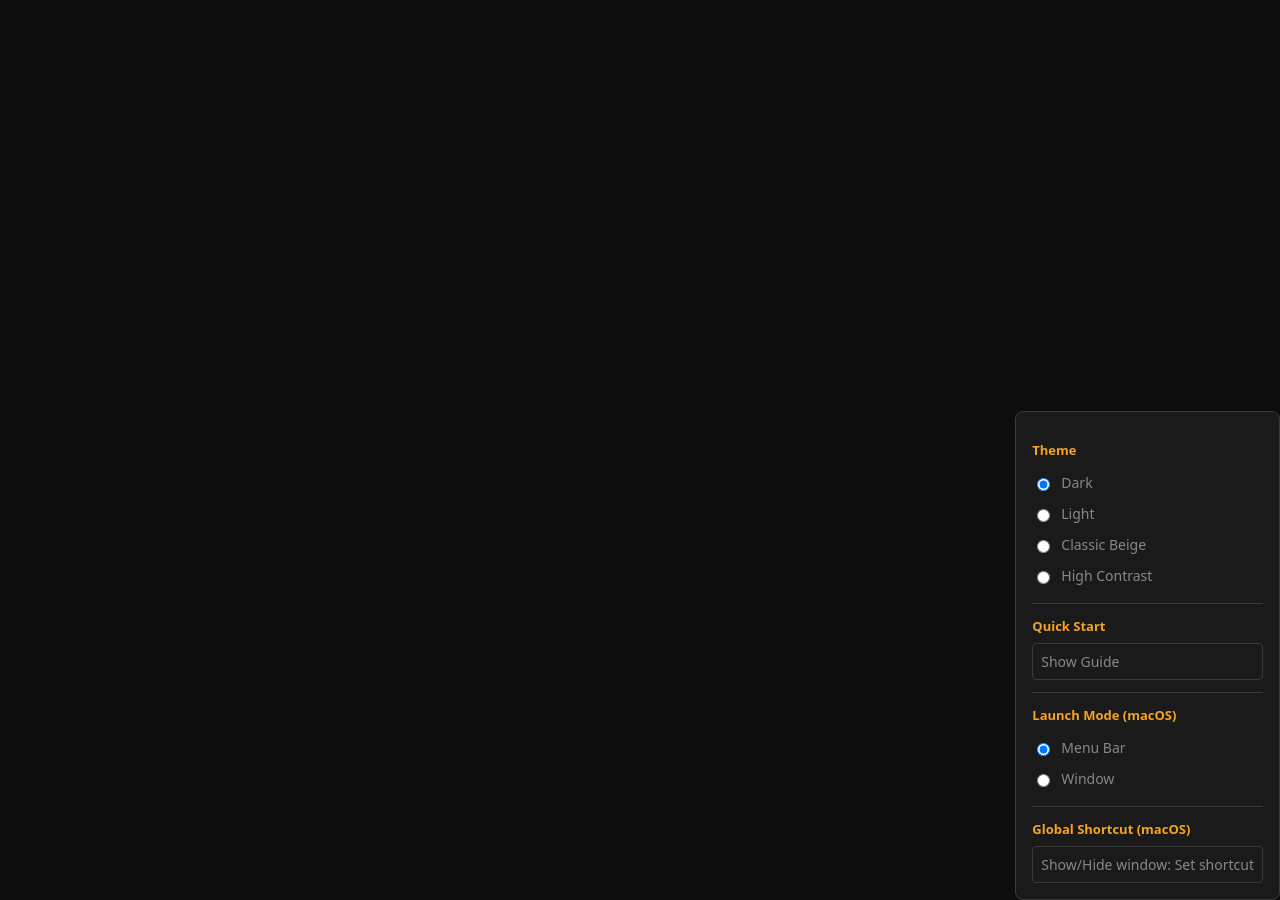
Scenario: SettingsPanel › shows restart hint after a launch-mode change
This screenshot has width=1280, height=900.
Click the radio button labelled "Window" at (1044, 780), box [1037,774,1050,786]
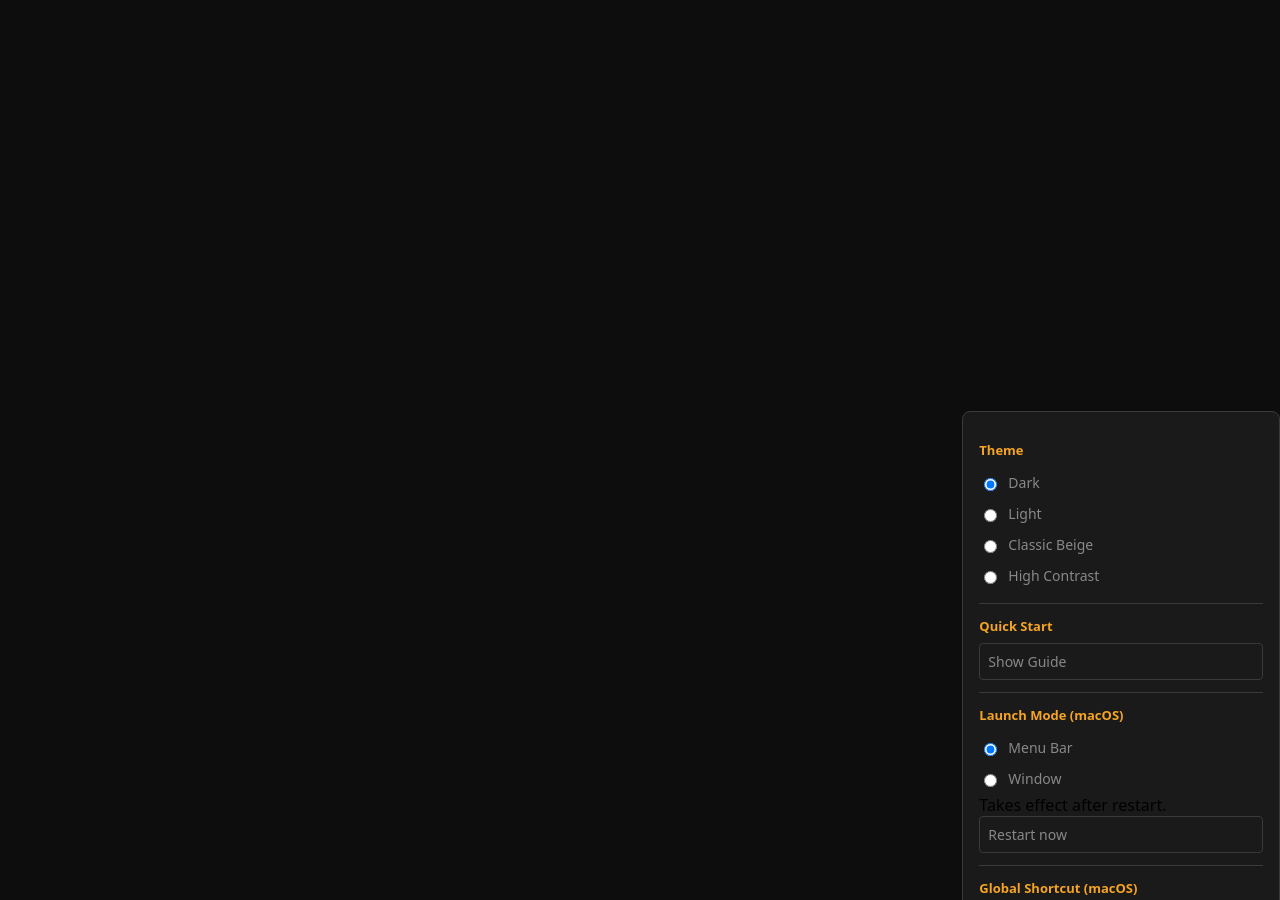
expect the button "Restart now" is shown: met, box [979,816,1263,853]
